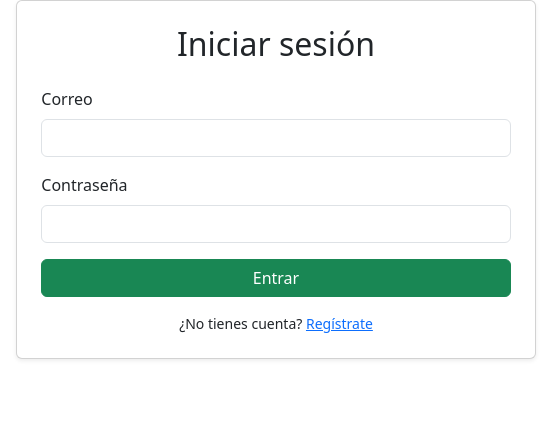
Test: Componente Login › muestra errores de validación si se envía el formulario vacío
Click the button "Entrar".
click(276, 278)  # box [41,259,511,297]
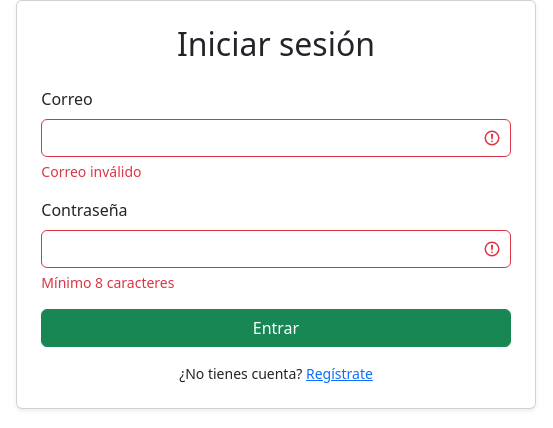
expect the text "Correo inválido" is shown: met, box [41,162,142,181]
expect the text "Mínimo 8 caracteres" is shown: met, box [41,273,174,292]
